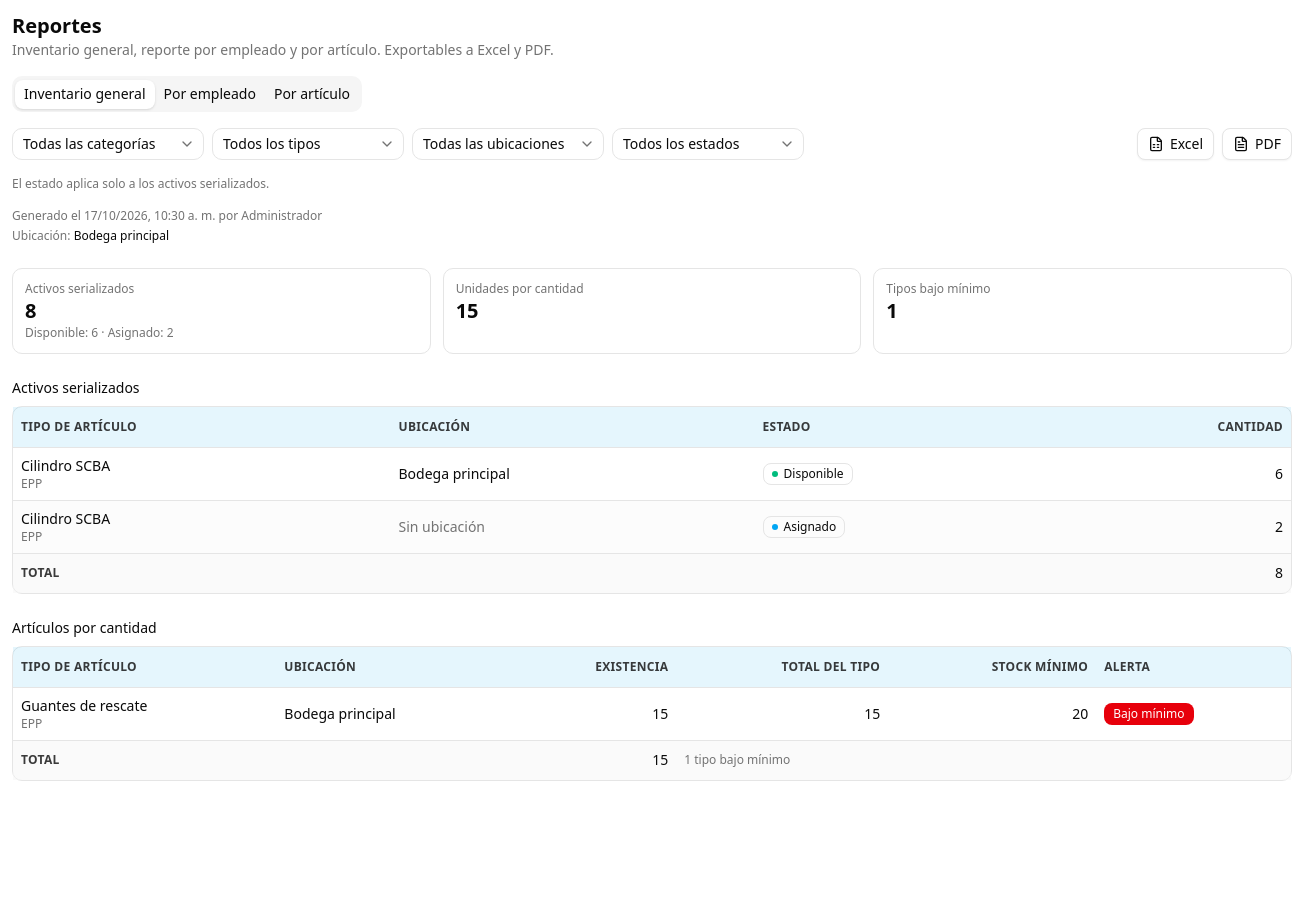
Test case: ReportesScreen (/reportes, 008 FR-003) › tiene las pestañas Inventario general, Por empleado y Por artículo
Check: the heading "Reportes" is shown, box [12,12,102,39]
Check: the table named "Activos serializados" is shown, box [13,407,1291,593]
Click the tab "Por empleado".
click(210, 94)  # box [154,80,265,108]
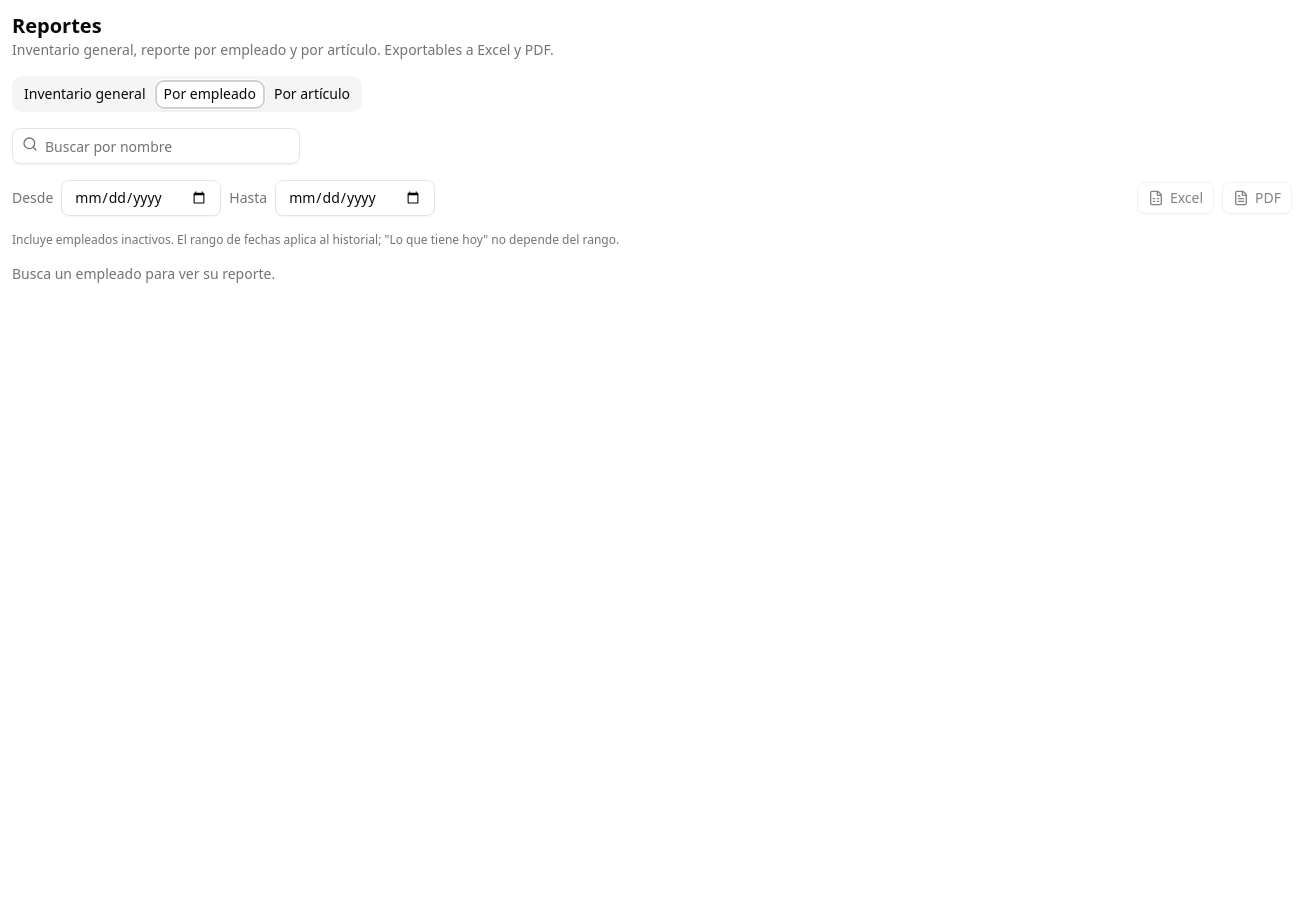
Check: the search field named "Buscar empleado" is shown, box [12,128,300,164]
Click the tab "Por artículo".
click(312, 94)  # box [265,80,359,108]
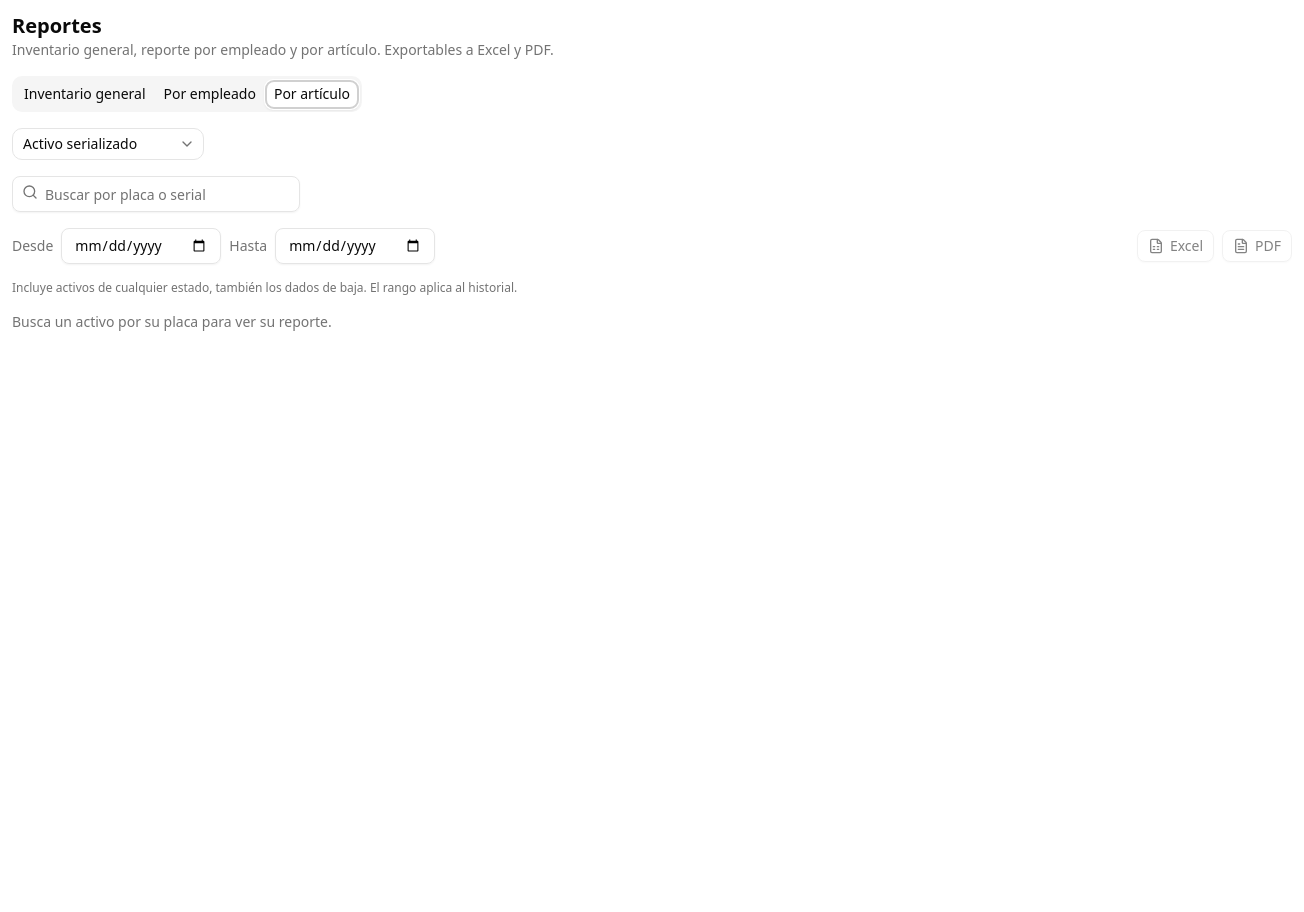
Check: the dropdown named "Clase de artículo" is shown, box [12,128,204,160]
